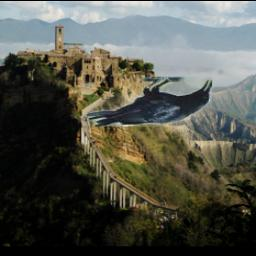Crow: (85, 77, 212, 127)
